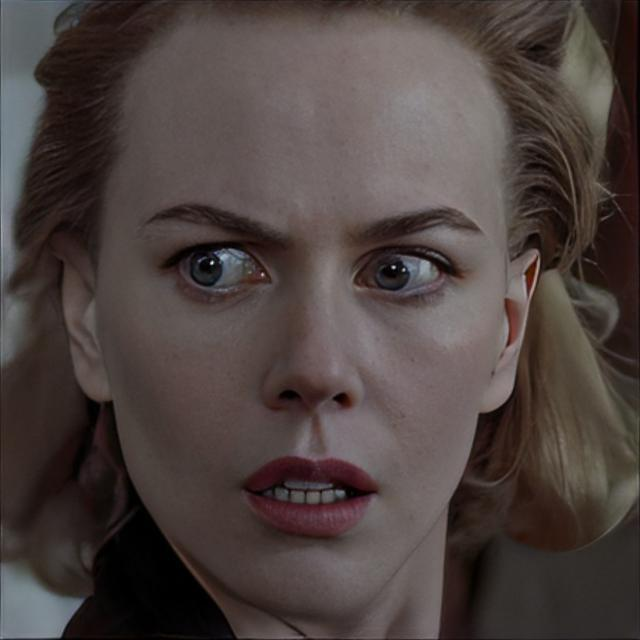fear: (101, 0, 510, 622)
